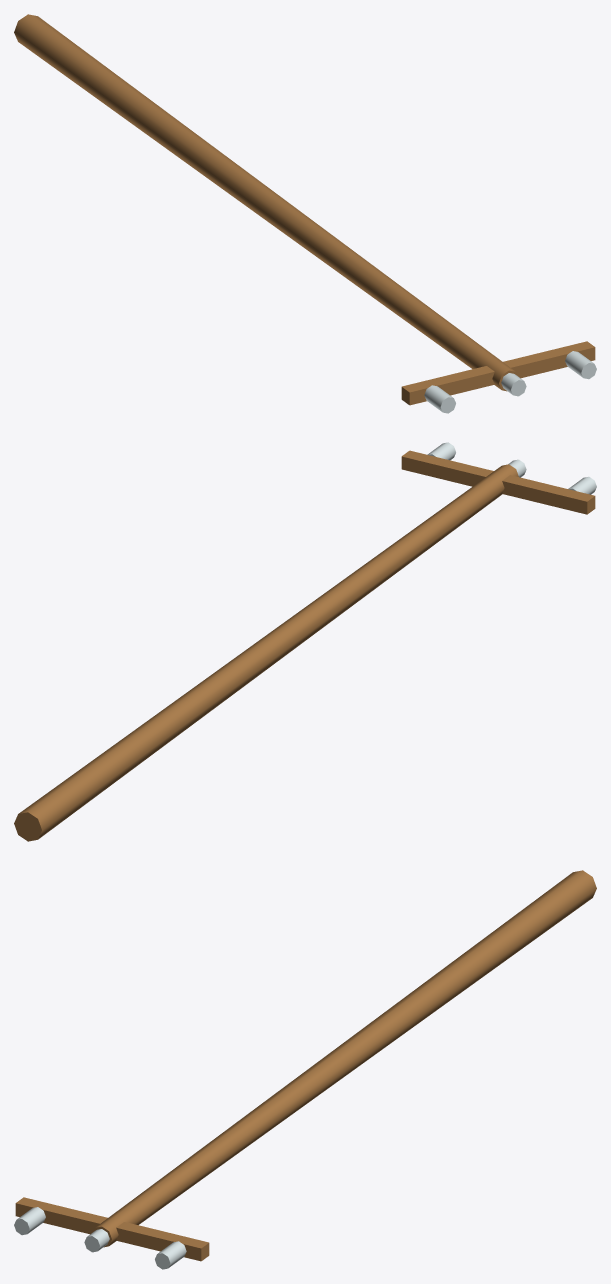
File: pole.glb
The picture shows the model from 3 angles, top to bottom: view 1: azimuth 30°, elevation 25°; view 2: azimuth 150°, elevation 25°; view 3: azimuth 330°, elevation 25°; orthographic projection.
Visible parts, largest first — view 1: pole; view 2: pole; view 3: pole.
Boxes of the visible parts, x1,y1,x2,y2 form: pole: (14, 14, 596, 413); pole: (14, 442, 596, 841); pole: (14, 870, 596, 1269).
Bounding box in the file's own units: 3.3 × 0.5 × 15.1.
